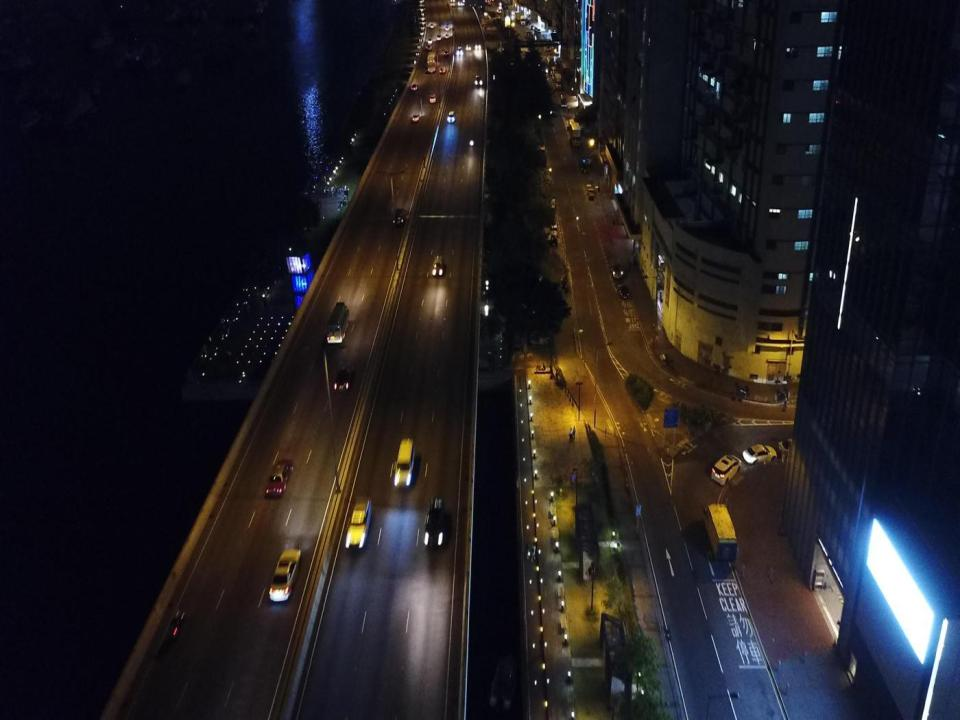bus: (327, 302, 349, 344), (427, 51, 438, 73), (560, 94, 566, 108)
car: (270, 548, 301, 602), (346, 496, 371, 548), (265, 458, 293, 496), (424, 496, 444, 546), (779, 436, 815, 460), (741, 444, 776, 465), (334, 361, 355, 390), (432, 254, 444, 277), (394, 207, 406, 226), (611, 260, 623, 278), (617, 279, 628, 298), (475, 74, 482, 87), (448, 110, 454, 122), (412, 114, 420, 122), (410, 84, 418, 91), (426, 44, 432, 50), (440, 66, 445, 73), (458, 46, 462, 54), (427, 38, 432, 44), (444, 50, 449, 56), (475, 43, 481, 48), (466, 44, 471, 49), (496, 9, 500, 14), (458, 1, 462, 5), (445, 35, 449, 39), (431, 23, 434, 28), (446, 26, 448, 30)
truck: (704, 504, 737, 564), (570, 123, 580, 147), (554, 73, 562, 90), (520, 15, 525, 25)
van: (393, 438, 415, 488), (711, 453, 741, 486), (568, 120, 575, 130), (429, 94, 436, 103), (436, 33, 441, 40)
